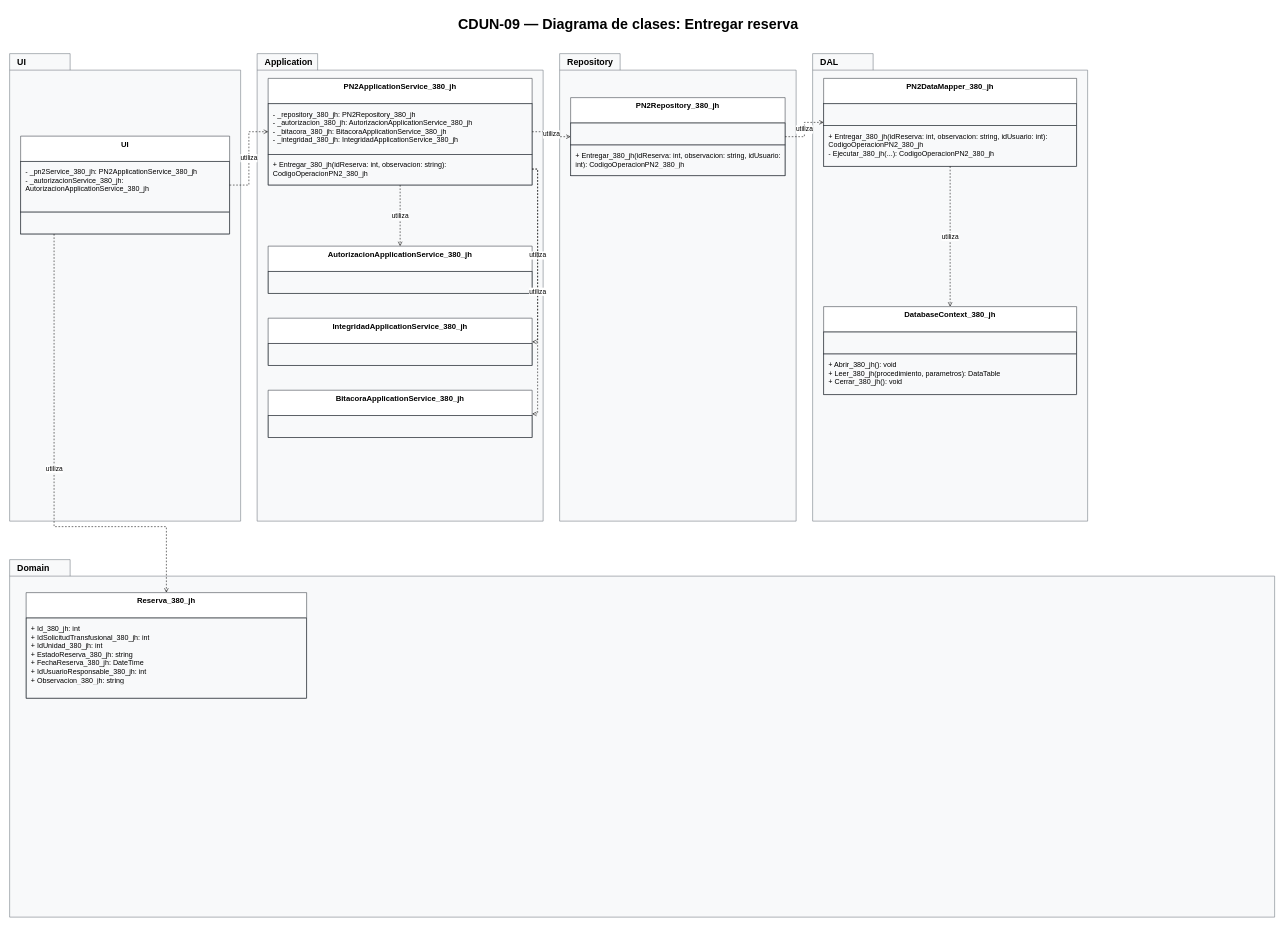
Some shapes in this 1284 by 927 pixel diagram are drawn without their labels. Here are the shapes that lost their labels. From the top down, the centre of each, then its label:
point 677,133: - _mapper_380_jh: PN2DataMapper_380_jh
point 950,114: - _databaseContext_380_jh: DatabaseContext_380_jh
point 125,222: - Entregar_Click_380_jh(sender, e): void
point 400,282: + TienePermiso_380_jh(usuario, codigo): bool
point 400,354: + Verificar_380_jh(): InformeIntegridad_380_jh
point 950,342: + Conexion_380_jh: SqlConnection
point 400,426: + RegistrarEvento_380_jh(...): bool
